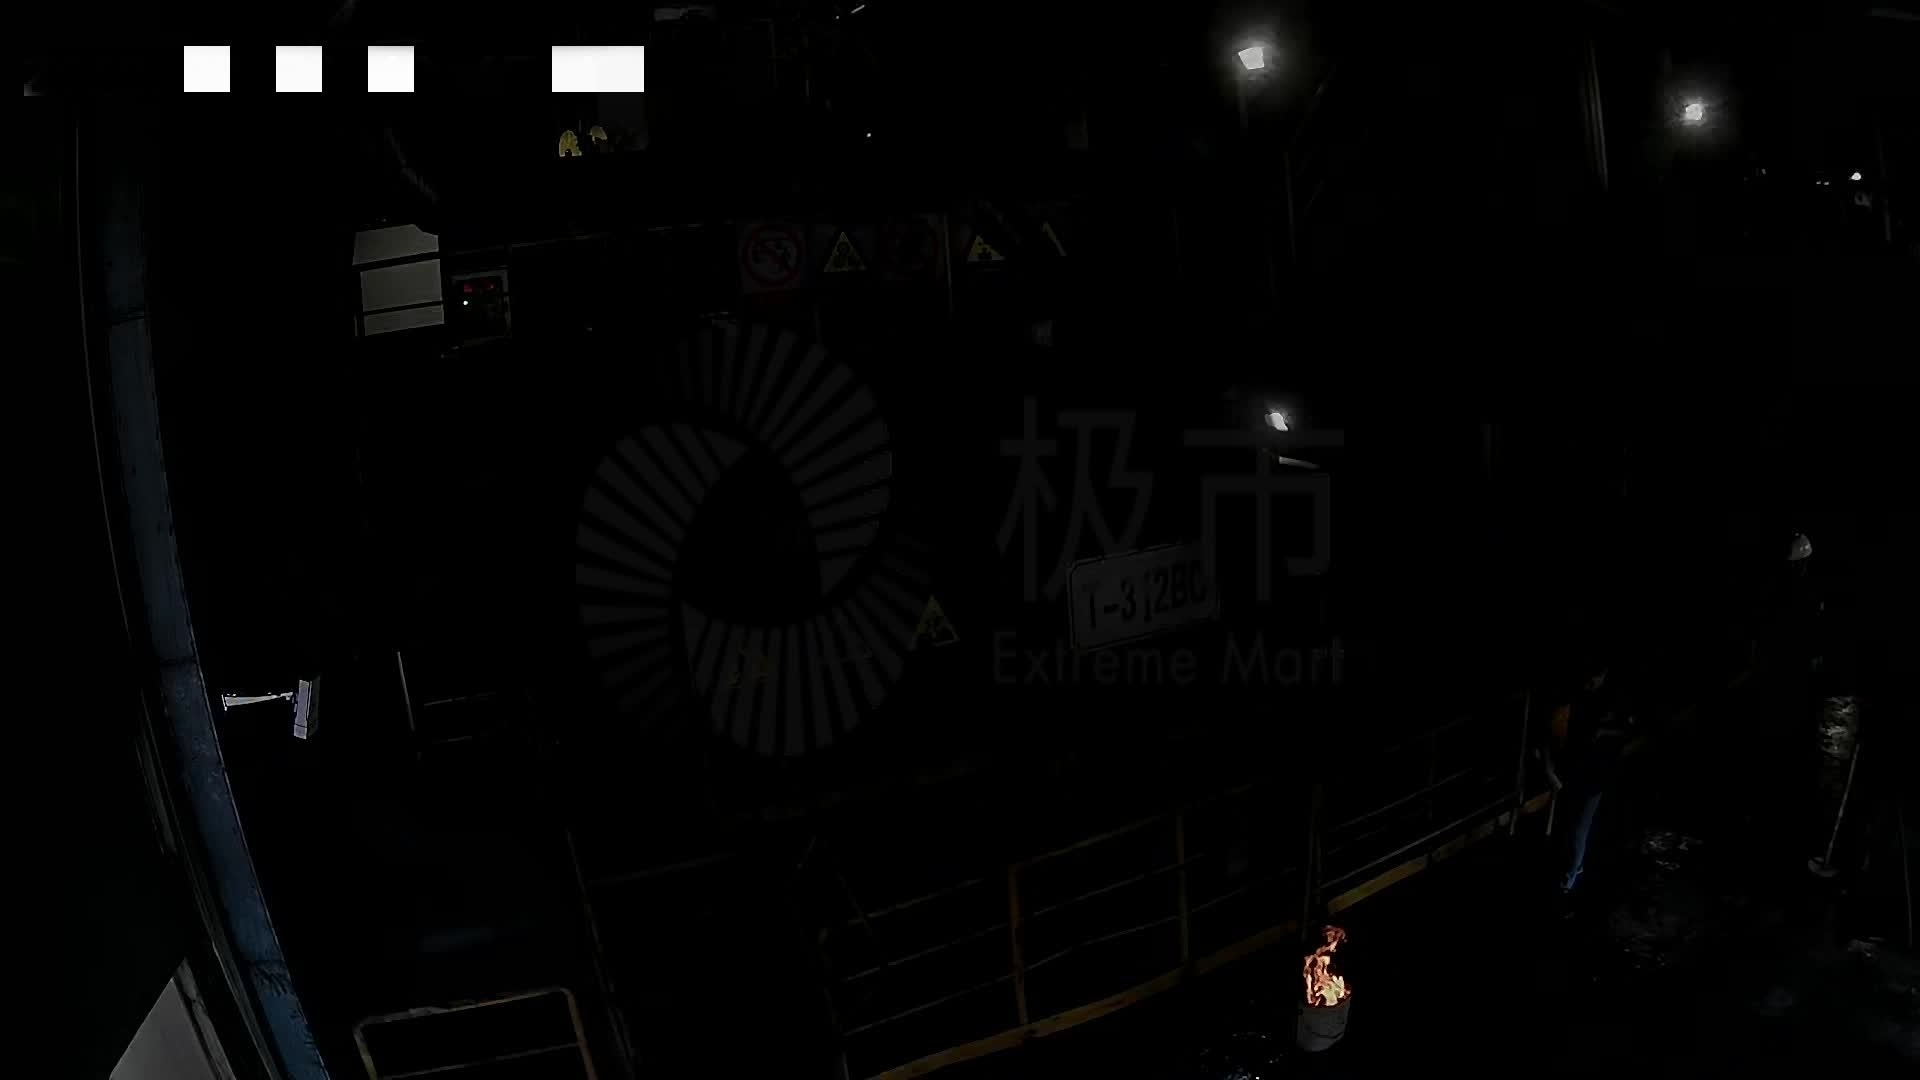fire: (1294, 920, 1354, 1011)
